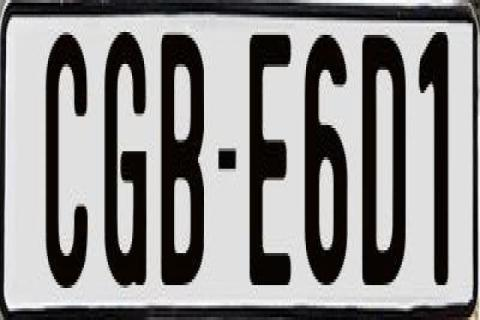0: (304, 35, 352, 291), (416, 23, 452, 280)
B: (160, 35, 206, 288)
C: (43, 29, 88, 285)
D: (362, 29, 410, 291)
E: (248, 29, 296, 285)
G: (101, 27, 143, 297)
